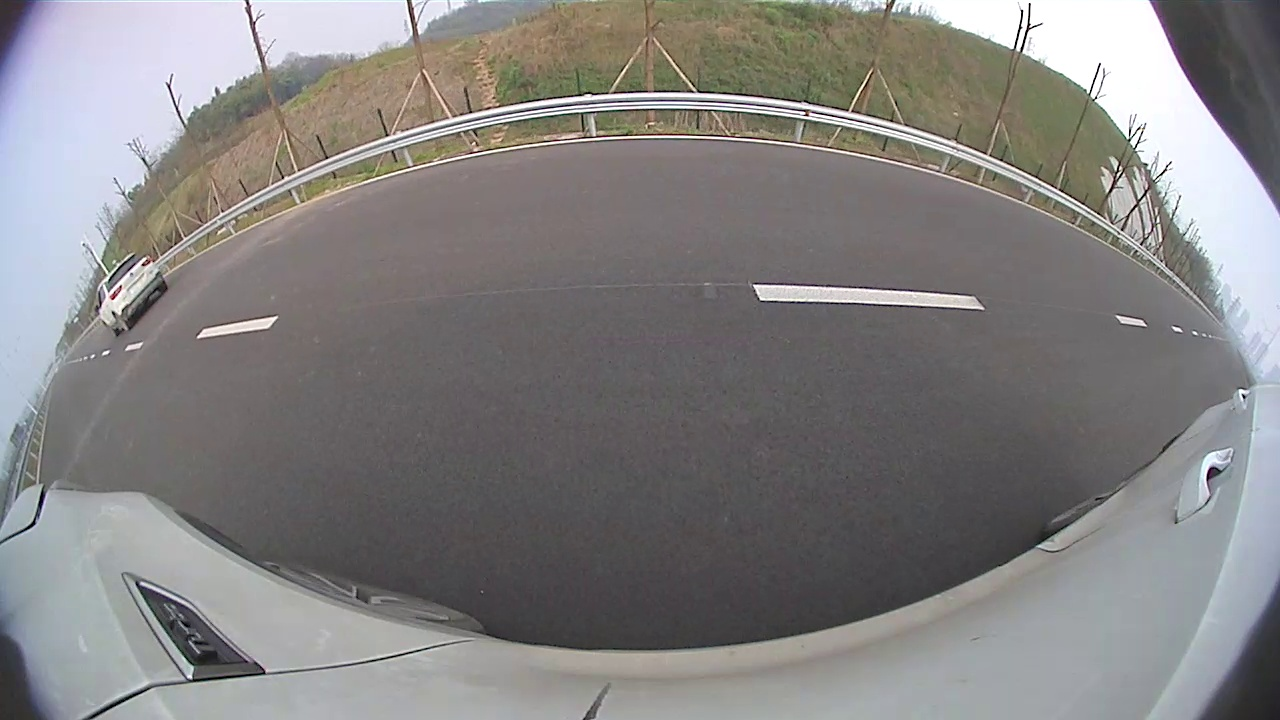car: (97, 251, 165, 337)
rear: (112, 312, 130, 332)
